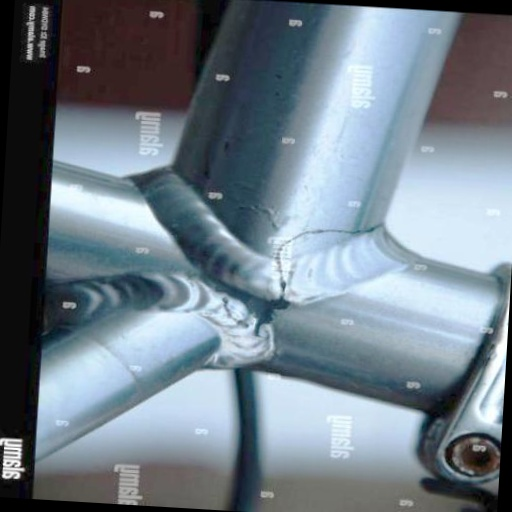crack: (268, 213, 383, 319)
